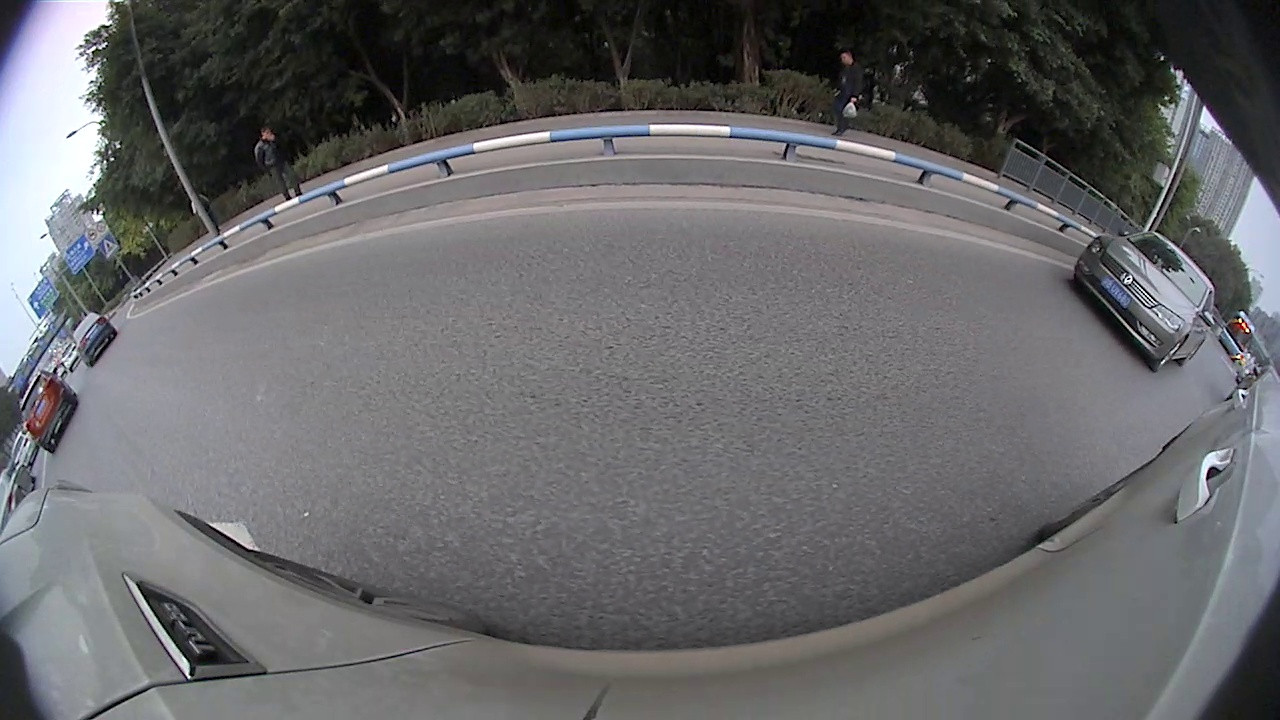bus: (1217, 311, 1258, 363)
car: (1073, 232, 1217, 374), (18, 368, 79, 458), (71, 311, 119, 369), (0, 462, 38, 532), (1226, 367, 1279, 408), (8, 427, 42, 469), (57, 343, 83, 369)
front: (1150, 335, 1189, 373), (1066, 261, 1094, 294)
person: (257, 128, 281, 205), (840, 47, 858, 137)
rear: (1179, 337, 1205, 366)
